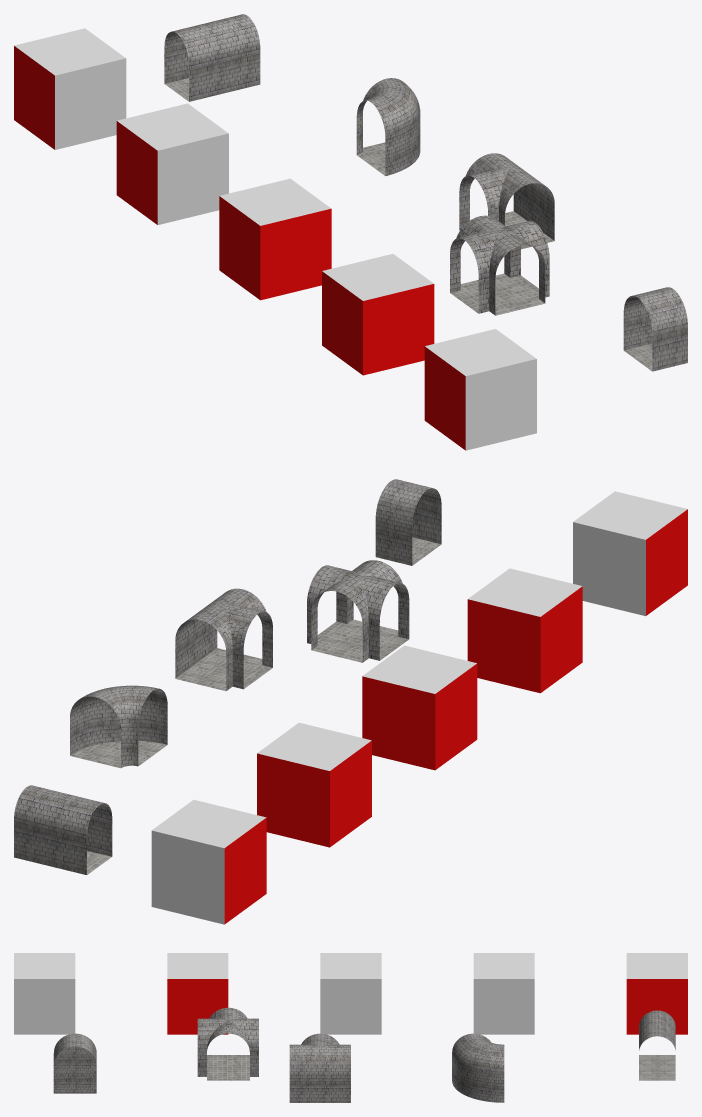
File: hall_cube.fbx
The picture shows the model from 3 angles, top to bottom: view 1: azimuth 30°, elevation 25°; view 2: azimuth 150°, elevation 25°; view 3: azimuth 270°, elevation 25°; orthographic projection. The views are drawn at different scales.
Parts seen in each view (by area): view 1: hall_box_0, hall_box_2, hall_box_3, hall_box_4, hall_box_1, hall_drain_4, hall_drain_1, hall_drain_3, hall_drain_0, hall_drain_2; view 2: hall_box_1, hall_box_3, hall_box_4, hall_box_0, hall_box_2, hall_drain_4, hall_drain_3, hall_drain_1, hall_drain_2, hall_drain_0; view 3: hall_box_2, hall_box_3, hall_box_0, hall_box_4, hall_box_1, hall_drain_3, hall_drain_4, hall_drain_2, hall_drain_0, hall_drain_1.
Part boxes in pixels (<box>): hall_box_0: <box>424,329,536,450</box>; hall_box_2: <box>116,103,228,224</box>; hall_box_3: <box>219,178,331,300</box>; hall_box_4: <box>322,254,434,375</box>; hall_box_1: <box>14,28,126,149</box>; hall_drain_4: <box>450,215,549,315</box>; hall_drain_1: <box>164,14,260,101</box>; hall_drain_3: <box>459,153,554,249</box>; hall_drain_0: <box>623,287,687,371</box>; hall_drain_2: <box>356,78,420,176</box>; hall_box_1: <box>151,799,266,924</box>; hall_box_3: <box>362,645,477,770</box>; hall_box_4: <box>467,568,582,693</box>; hall_box_0: <box>573,491,687,616</box>; hall_box_2: <box>257,722,371,847</box>; hall_drain_4: <box>307,560,409,662</box>; hall_drain_3: <box>175,588,272,691</box>; hall_drain_1: <box>14,785,112,874</box>; hall_drain_2: <box>70,685,167,768</box>; hall_drain_0: <box>375,479,441,565</box>; hall_box_2: <box>473,953,534,1034</box>; hall_box_3: <box>320,953,381,1034</box>; hall_box_0: <box>14,953,75,1034</box>; hall_box_4: <box>167,953,228,1034</box>; hall_box_1: <box>626,953,687,1034</box>; hall_drain_3: <box>289,1033,350,1102</box>; hall_drain_4: <box>197,1007,258,1080</box>; hall_drain_2: <box>452,1033,504,1102</box>; hall_drain_0: <box>53,1033,96,1093</box>; hall_drain_1: <box>639,1010,675,1080</box>.
Size of the model in its own units: 770 by 200 by 2200.
